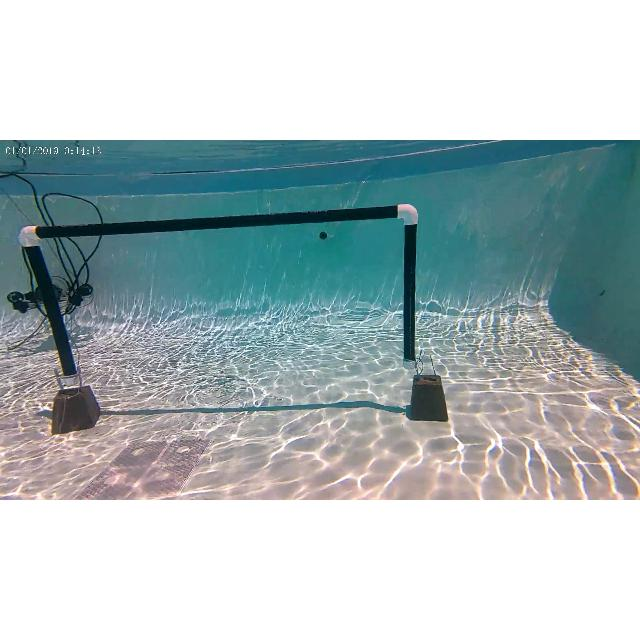prequal gate: (18, 204, 418, 370)
prequal gate leg l: (15, 226, 83, 390)
prequal gate leg r: (396, 202, 420, 374)
